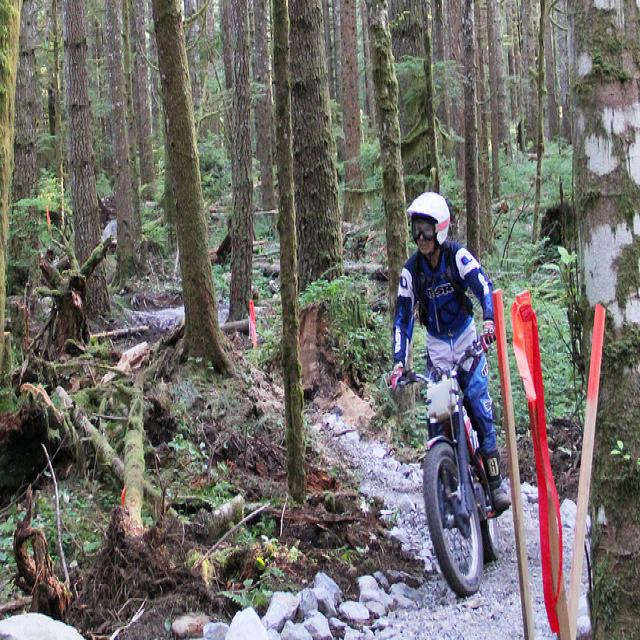motor: (403, 340, 496, 599)
